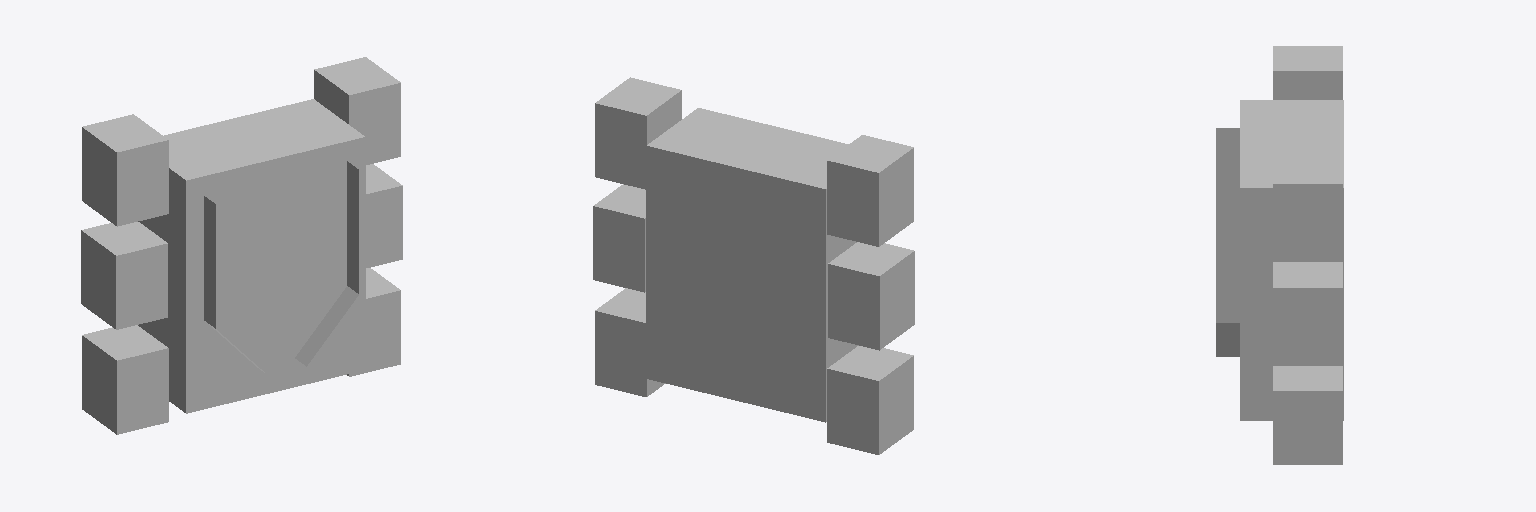
The model's file is androidSimple.obj.
The picture shows the model from 3 angles: view 1: azimuth 30°, elevation 25°; view 2: azimuth 150°, elevation 25°; view 3: azimuth 270°, elevation 25°; orthographic projection.
Visible parts, largest first — view 1: Object.1; view 2: Object.1; view 3: Object.1.
Part boxes in pixels (bbox=[...]): Object.1: bbox=[81, 57, 402, 434]; Object.1: bbox=[593, 77, 914, 454]; Object.1: bbox=[1216, 46, 1343, 464].
Size of the model in its own units: 122 by 115 by 47.26.